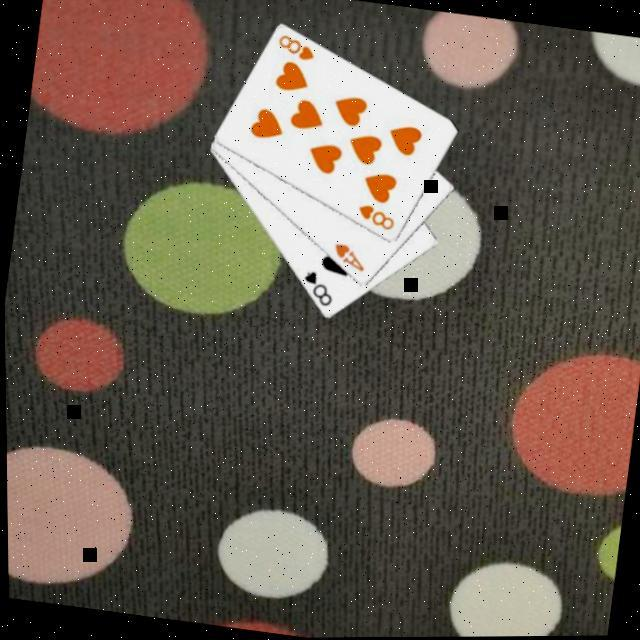8H: (350, 202, 397, 236), (272, 31, 317, 66)
8S: (294, 268, 336, 312)
AH: (326, 240, 368, 277)
